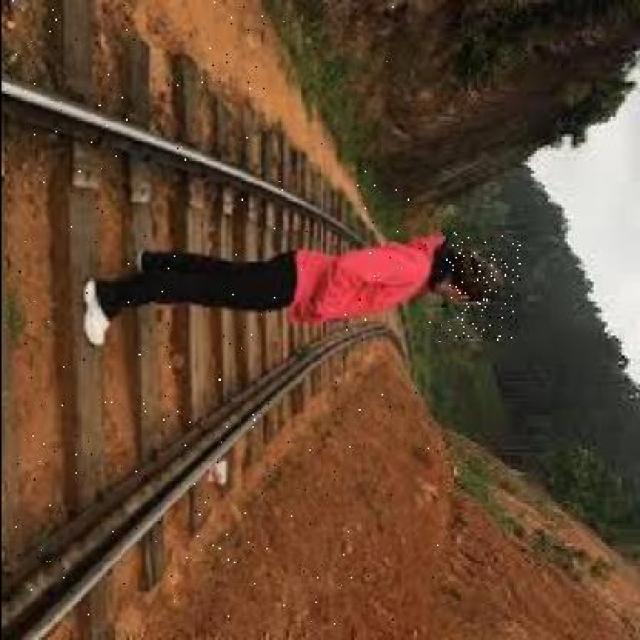danger: (65, 232, 518, 342)
rail: (9, 0, 436, 629)
